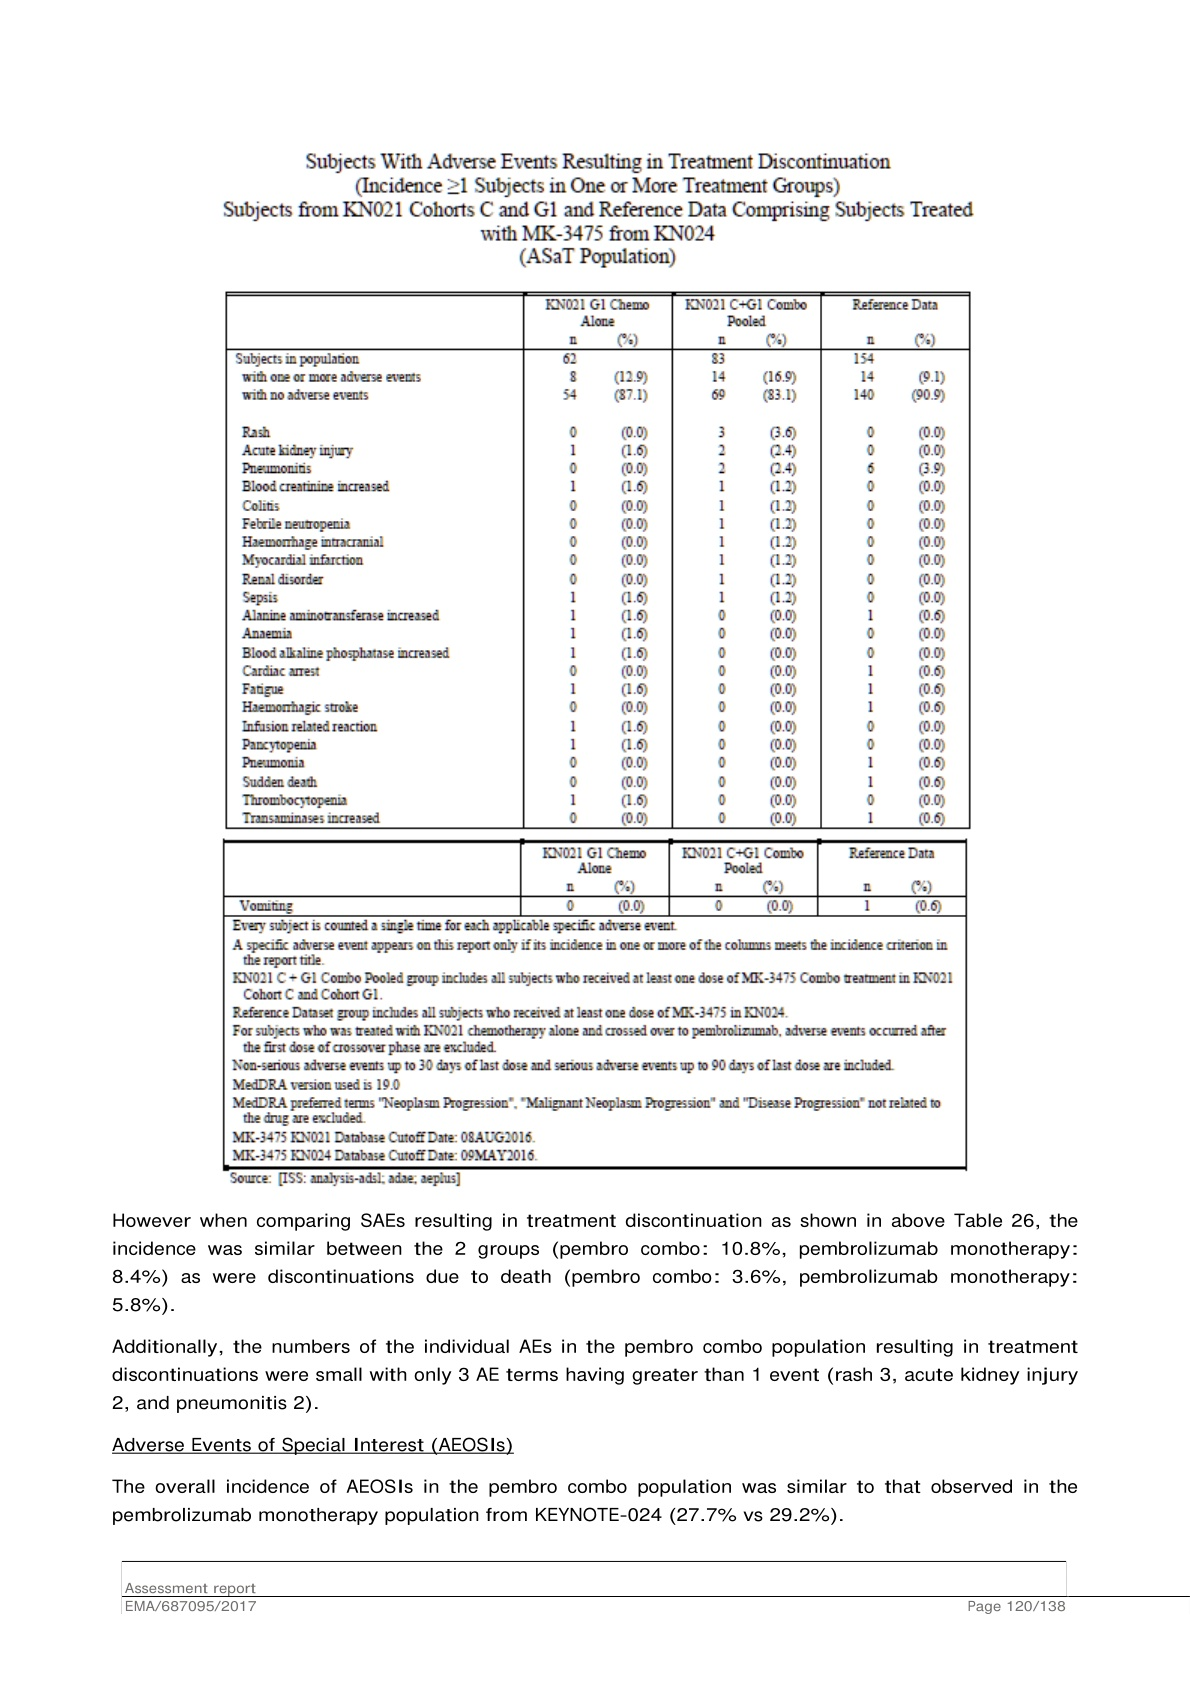merged_cells: (222, 838, 968, 1171)
partial_lined: (224, 291, 972, 829)
